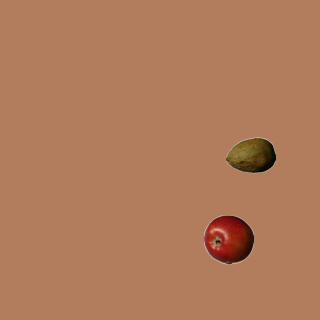Apple Braeburn: (203, 214, 253, 264)
Papaya: (225, 130, 275, 180)
